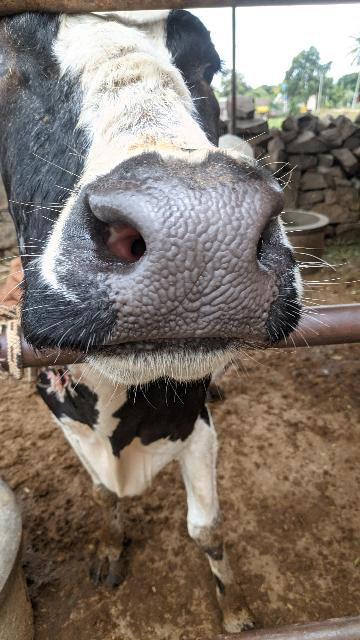Muzzle: (97, 182, 270, 332)
